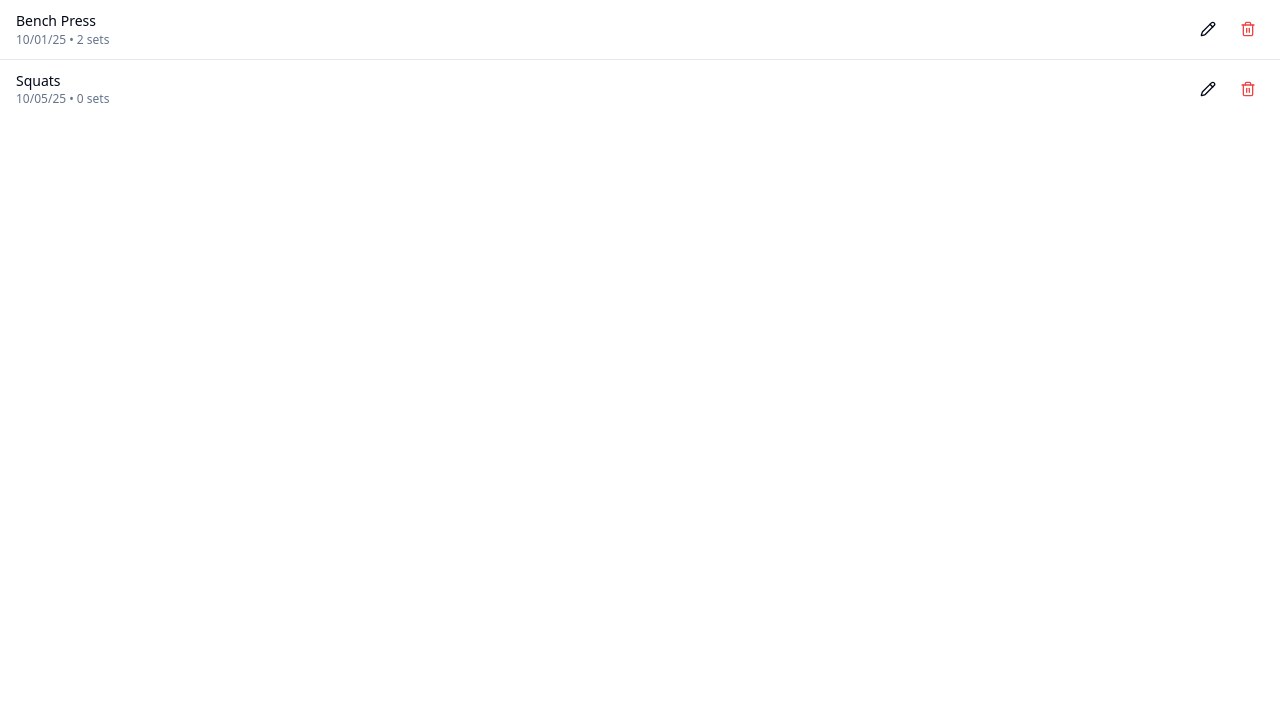
ExerciseManager › delete exercise › shows confirmation dialog before deleting
Click the 2nd button named "Delete" at (1248, 29), box x1=1232 y1=13 x2=1264 y2=45
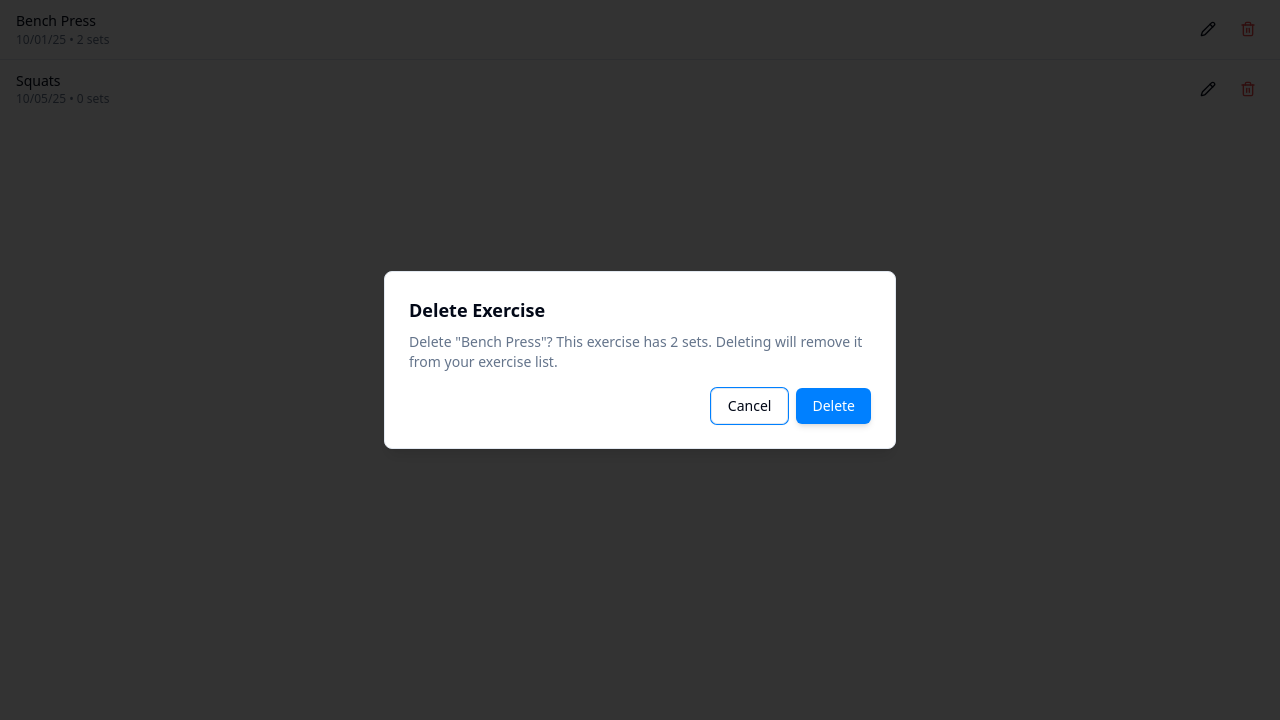
Now the dialog is shown, box x1=384 y1=271 x2=896 y2=449
